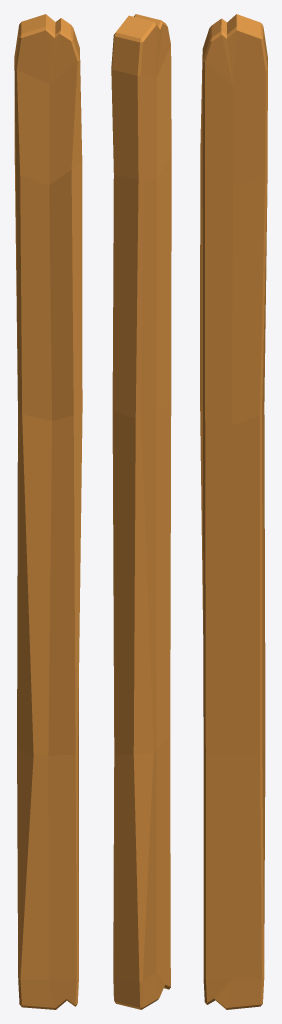
File: env_pole.fbx
The picture shows the model from 3 angles, left to right: view 1: azimuth 90°, elevation 25°; view 2: azimuth 150°, elevation 25°; view 3: azimuth 270°, elevation 25°; orthographic projection.
Parts seen in each view (by area): view 1: env_pole; view 2: env_pole; view 3: env_pole.
Boxes of the visible parts, bbox=[...] form: env_pole: bbox=[14, 14, 82, 1009]; env_pole: bbox=[111, 14, 171, 1009]; env_pole: bbox=[200, 14, 267, 1009].
Size of the model in its own units: 6.84 by 181 by 11.31.
